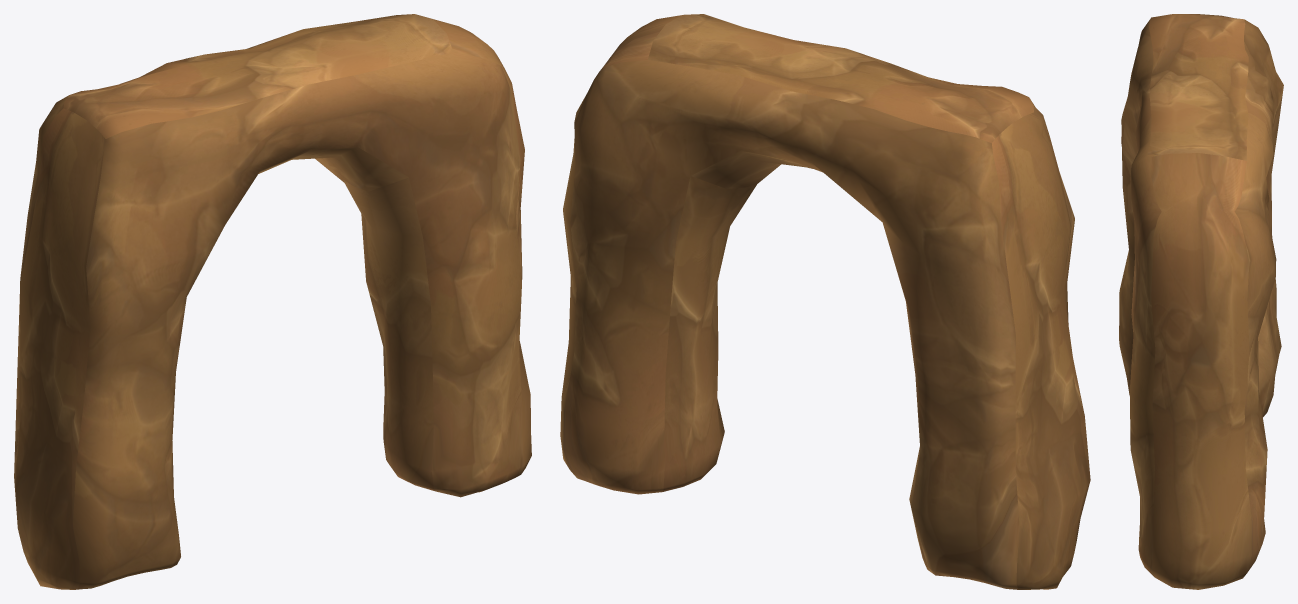
File: Lowest_islands7.fbx
3 views of the same model, side by side, from view 1: azimuth 30°, elevation 25°; view 2: azimuth 150°, elevation 25°; view 3: azimuth 270°, elevation 25° (orthographic). The views are drawn at different scales.
Parts seen in each view (by area): view 1: Cube.006; view 2: Cube.006; view 3: Cube.006.
Part boxes in pixels (<box>): Cube.006: <box>14,14,531,589</box>; Cube.006: <box>560,14,1090,589</box>; Cube.006: <box>1119,14,1283,589</box>.
Size of the model in its own units: 1381 by 1259 by 451.
Materials: 1 (1 with a texture image).
